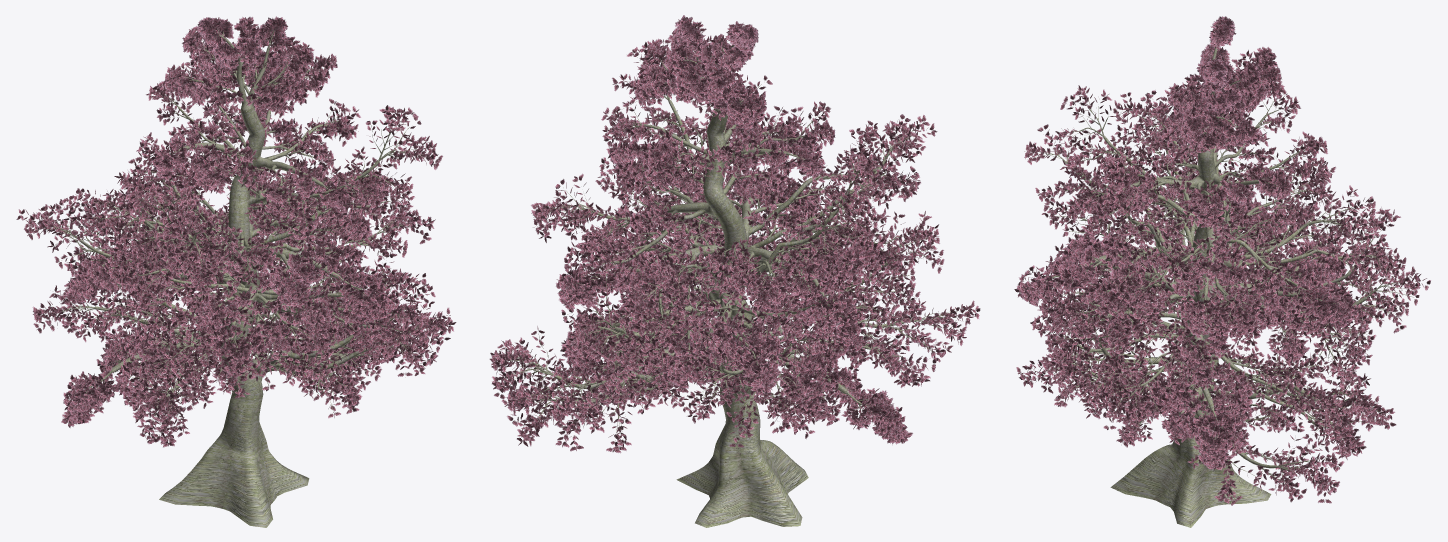
Rendered from open-crown-s19.glb.
3 views of the same model, side by side, from view 1: azimuth 30°, elevation 25°; view 2: azimuth 150°, elevation 25°; view 3: azimuth 270°, elevation 25° (orthographic). The views are drawn at different scales.
Parts seen in each view (by area): view 1: BlossomPlantFactory_open-crown-s19; view 2: BlossomPlantFactory_open-crown-s19; view 3: BlossomPlantFactory_open-crown-s19.
Part boxes in pixels (box(x1,y1,x2,y2)): BlossomPlantFactory_open-crown-s19: box(16, 16, 456, 527); BlossomPlantFactory_open-crown-s19: box(489, 15, 980, 527); BlossomPlantFactory_open-crown-s19: box(1014, 16, 1430, 527).
Size of the model in its own units: 7.72 by 9.8 by 7.95.
Materials: 2 (2 with a texture image).
